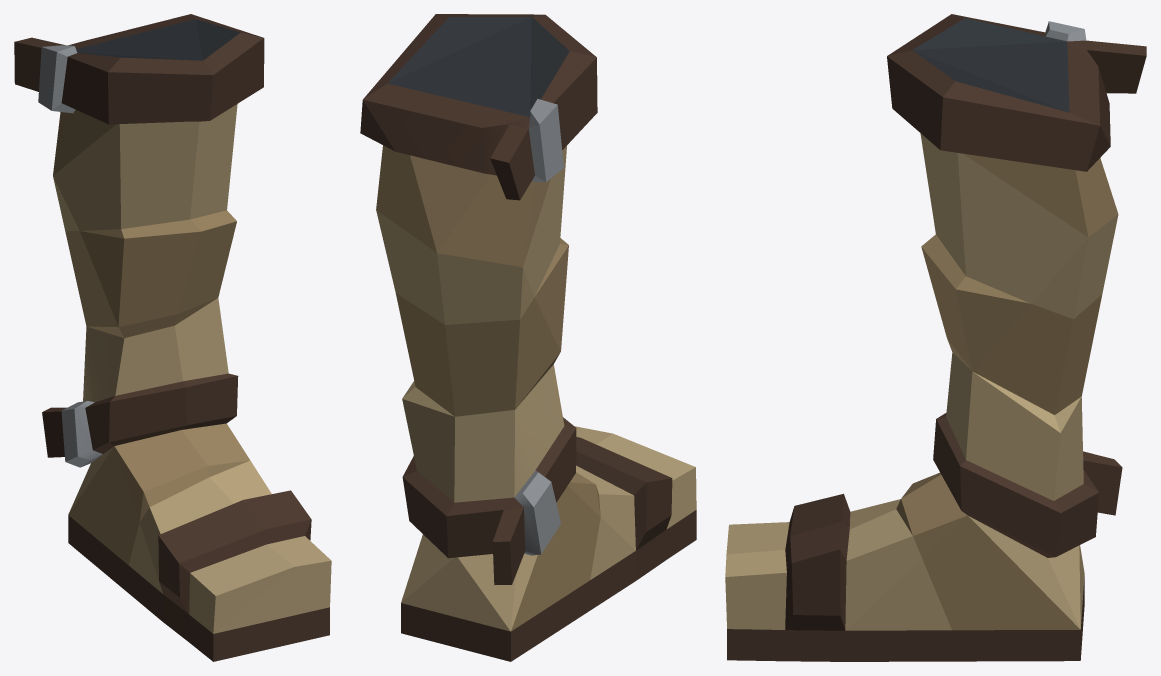
File: Chr_LegLeft_Male_17_Static.fbx
The picture shows the model from 3 angles, left to right: view 1: azimuth 30°, elevation 25°; view 2: azimuth 150°, elevation 25°; view 3: azimuth 270°, elevation 25°; orthographic projection. The views are drawn at different scales.
Parts seen in each view (by area): view 1: Chr_LegLeft_Male_17_Static; view 2: Chr_LegLeft_Male_17_Static; view 3: Chr_LegLeft_Male_17_Static.
Part boxes in pixels (x1,y1,x2,y2): Chr_LegLeft_Male_17_Static: [14, 14, 331, 661]; Chr_LegLeft_Male_17_Static: [360, 14, 696, 661]; Chr_LegLeft_Male_17_Static: [725, 14, 1146, 661].
Size of the model in its own units: 0.1375 by 0.404 by 0.2632.
